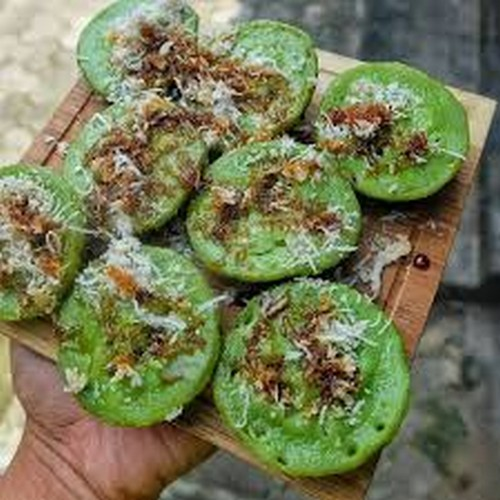laklak: (81, 21, 412, 385)
